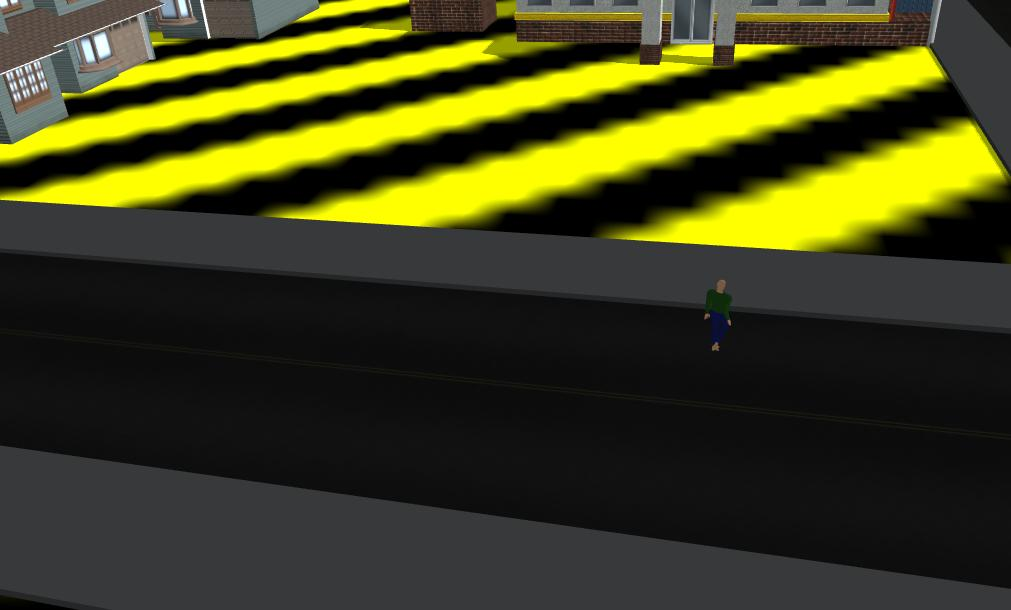human: (694, 272, 753, 360)
